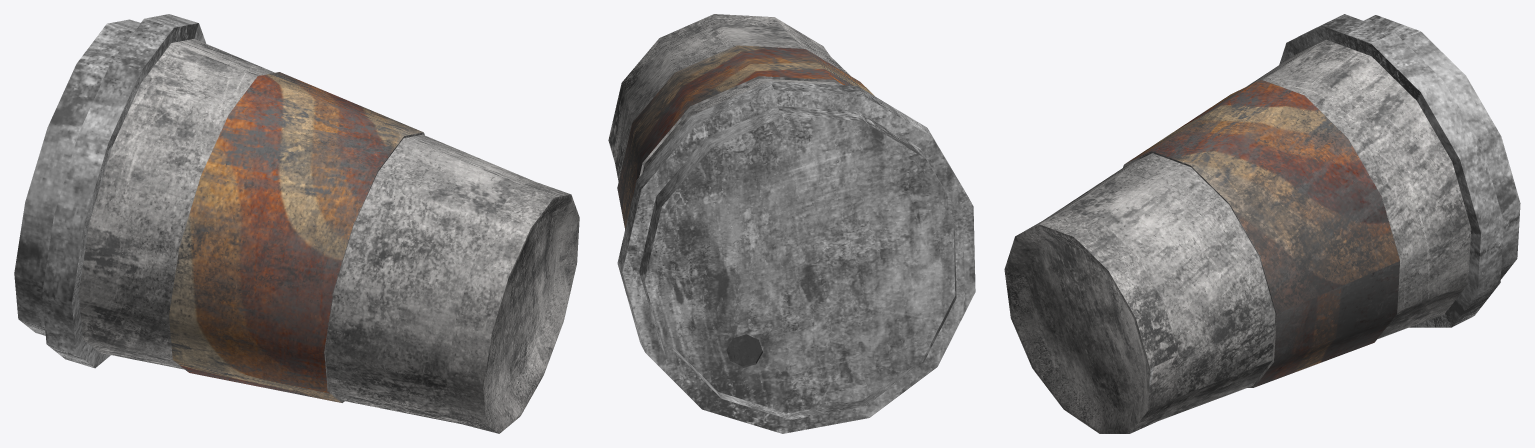
The model's file is cup kopi.fbx.
3 renders of one model, left to right at view 1: azimuth 30°, elevation 25°; view 2: azimuth 150°, elevation 25°; view 3: azimuth 270°, elevation 25°, orthographic. The views are drawn at different scales.
Parts seen in each view (by area): view 1: 1_4.001; view 2: 1_4.001; view 3: 1_4.001.
Part boxes in pixels (<box>): 1_4.001: <box>14,14,579,433</box>; 1_4.001: <box>608,14,975,433</box>; 1_4.001: <box>1004,14,1520,433</box>.
Bounding box in the file's own units: 25.66 × 17.73 × 27.17.
